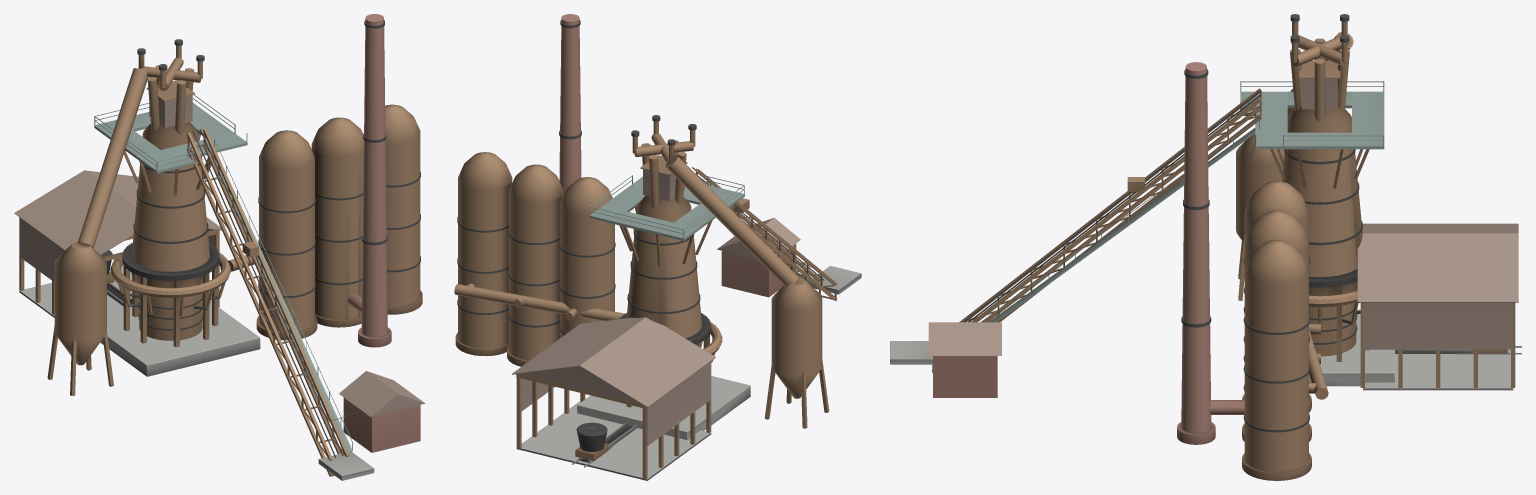
File: blast_furnace.glb
3 renders of one model, left to right at view 1: azimuth 30°, elevation 25°; view 2: azimuth 150°, elevation 25°; view 3: azimuth 270°, elevation 25°, orthographic. The views are drawn at different scales.
Parts seen in each view (by area): view 1: static; view 2: static; view 3: static.
Part boxes in pixels (x1,y1,x2,y2): static: (14, 14, 425, 480); static: (454, 14, 861, 480); static: (890, 14, 1521, 480).
Bounding box in the file's own units: 45.05 × 39.62 × 58.8.
